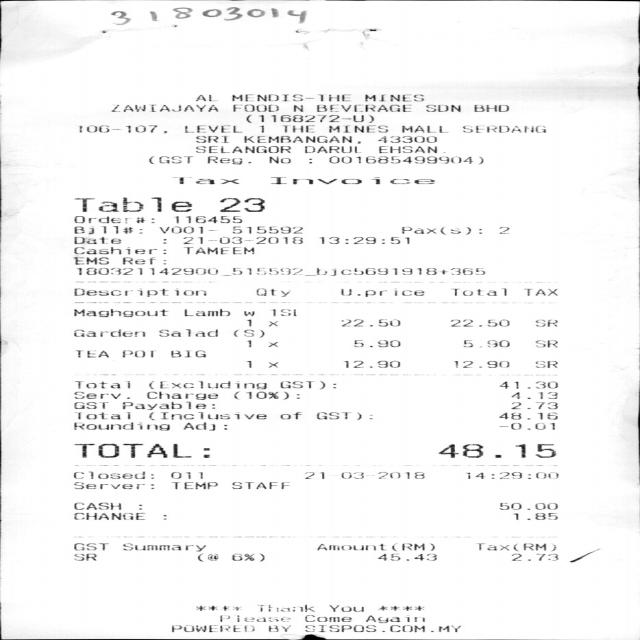text: (230, 267, 484, 275), (434, 443, 554, 459), (74, 443, 193, 459), (74, 196, 190, 212), (147, 380, 326, 389), (328, 156, 482, 164), (245, 114, 372, 123), (271, 177, 434, 184), (75, 267, 216, 275), (304, 625, 460, 632), (147, 411, 265, 420), (74, 288, 205, 296), (182, 236, 302, 244), (304, 471, 424, 479), (316, 543, 434, 551), (244, 135, 359, 143), (110, 104, 216, 112), (120, 401, 214, 410), (231, 94, 349, 101), (71, 309, 167, 317), (72, 246, 157, 255), (316, 104, 411, 112), (74, 422, 168, 430), (465, 471, 557, 479), (318, 236, 408, 244), (145, 390, 216, 400), (78, 125, 166, 133), (194, 146, 289, 153), (461, 125, 544, 133), (218, 197, 262, 212), (232, 390, 298, 400), (340, 288, 422, 296), (122, 543, 204, 551), (476, 543, 554, 551), (196, 553, 262, 562), (170, 625, 252, 632), (73, 329, 144, 337), (73, 512, 144, 520), (72, 471, 153, 478), (72, 482, 153, 489), (231, 226, 301, 234), (400, 227, 480, 234), (219, 614, 289, 622), (174, 215, 240, 223), (366, 614, 424, 623), (74, 216, 147, 223), (316, 411, 372, 420), (183, 247, 253, 254), (328, 125, 387, 133), (376, 135, 435, 143), (449, 319, 508, 327), (376, 553, 435, 561), (184, 125, 242, 133), (158, 329, 216, 337), (256, 604, 314, 612), (378, 146, 444, 153), (171, 177, 237, 184), (499, 381, 556, 389), (499, 502, 556, 510), (342, 360, 398, 368), (497, 422, 553, 430), (74, 391, 129, 399), (158, 226, 212, 234), (451, 288, 505, 296), (453, 360, 507, 368), (364, 94, 423, 101), (339, 319, 398, 326), (230, 482, 288, 489), (303, 146, 360, 153), (499, 412, 556, 419), (74, 381, 129, 388), (74, 412, 129, 419), (72, 502, 120, 510), (73, 236, 119, 244), (510, 512, 556, 520), (511, 553, 557, 561), (303, 614, 349, 622), (401, 125, 446, 133), (183, 308, 228, 316), (233, 104, 277, 112), (148, 156, 192, 164), (206, 156, 250, 164), (512, 391, 556, 399), (183, 422, 226, 430), (508, 402, 556, 409), (352, 340, 398, 347), (462, 340, 508, 347), (170, 482, 216, 489), (121, 257, 158, 265), (72, 224, 96, 236), (72, 256, 108, 264), (101, 226, 141, 233), (425, 104, 459, 112), (193, 135, 227, 143), (74, 350, 108, 358), (474, 104, 507, 112), (255, 288, 288, 296), (524, 288, 556, 296), (170, 471, 202, 479), (72, 543, 108, 550), (282, 125, 313, 133), (169, 350, 204, 357), (327, 605, 362, 612), (73, 402, 107, 409), (233, 330, 262, 338), (120, 350, 151, 357), (72, 553, 95, 561), (534, 360, 556, 368), (278, 411, 300, 419), (266, 624, 288, 632), (269, 156, 289, 164), (534, 319, 556, 326), (534, 340, 556, 347), (194, 94, 214, 101), (271, 309, 289, 316), (265, 320, 278, 327), (498, 226, 507, 234), (294, 104, 302, 112), (243, 310, 252, 316), (267, 341, 276, 347), (245, 319, 252, 326), (267, 362, 276, 367), (258, 125, 262, 133), (246, 360, 250, 368), (246, 340, 250, 347)
